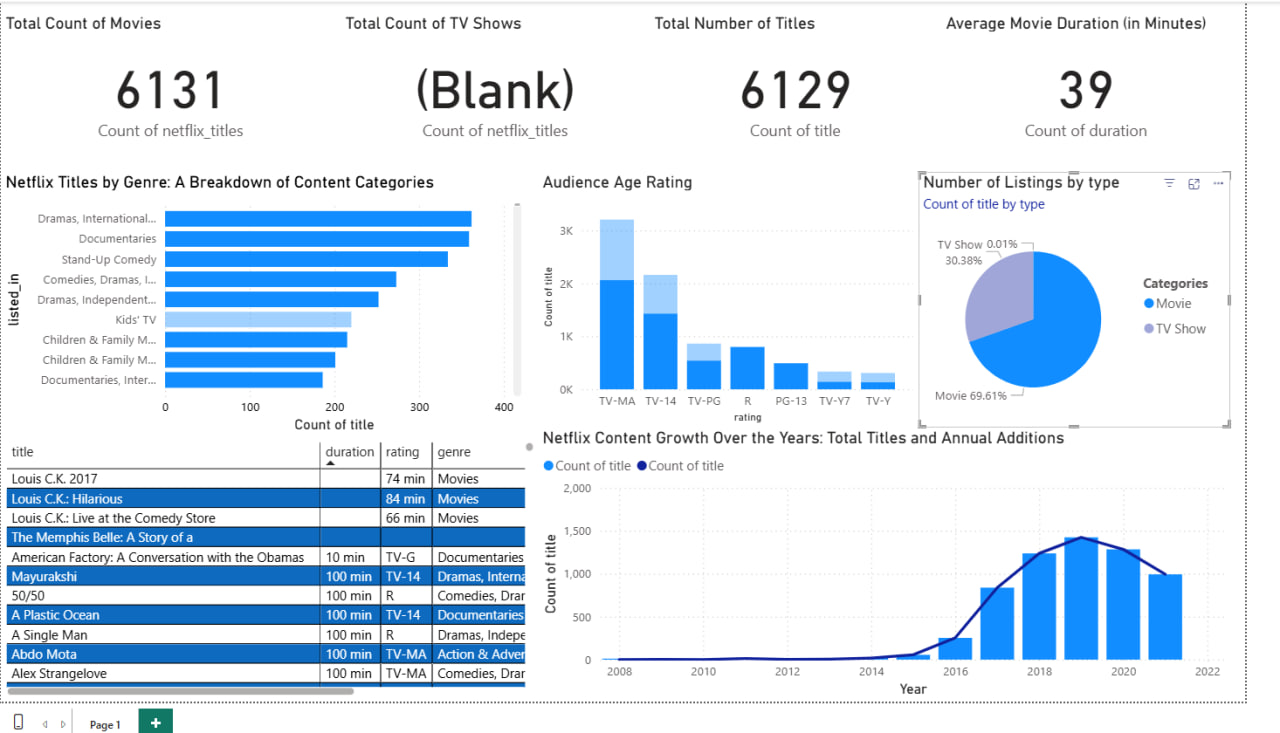

What the dashboard file says about the page in this screenshot:
{"tool":"powerbi","page":{"name":"Page 1","canvas":[1280,720],"ordinal":0},"visuals":[{"type":"lineClusteredColumnComboChart","title":"Netflix Content Growth Over the Years: Total Titles and Annual Additions","fields":{"Category":["netflix_titles.date_added.Variation.Date Hierarchy.Year"],"Y":["netflix_titles.title","select","select1"],"Y2":["netflix_titles.title"]},"box":[552.5,437.7,712,282.1],"z":0},{"type":"pieChart","title":"Number of Listings by type","fields":{"Y":["netflix_titles.title"],"Category":["netflix_titles.type"]},"box":[943.5,175.1,321,262.6],"z":1000},{"type":"tableEx","fields":{"Values":["netflix_titles.title","netflix_titles.duration","netflix_titles.rating","netflix_titles.listed_in"]},"box":[0,448.4,552.8,271.1],"z":2000},{"type":"card","title":"Average Movie Duration (in Minutes)","fields":{"Values":["netflix_titles.duration"]},"box":[966.8,11.7,297.6,145.9],"z":3000},{"type":"clusteredColumnChart","title":"Audience Age Rating","fields":{"Y":["netflix_titles.title"],"Category":["netflix_titles.rating"]},"box":[552.5,175.1,391,262.6],"z":4000},{"type":"clusteredBarChart","title":"Netflix Titles by Genre: A Breakdown of Content Categories","fields":{"Category":["netflix_titles.listed_in"],"Y":["netflix_titles.title"]},"box":[0,175.3,540.4,273.1],"z":5000},{"type":"card","title":"Total Number of Titles","fields":{"Values":["netflix_titles.title"]},"box":[667.2,11.7,299.6,145.9],"z":6000},{"type":"card","title":"Total Count of Movies ","fields":{"Values":["netflix_titles"]},"box":[0,11.7,349.2,145.9],"z":7000},{"type":"card","title":"Total Count of TV Shows","fields":{"Values":["netflix_titles"]},"box":[349.2,11.7,318.1,145.9],"z":8000}]}

Visuals, with their boxes on the page's 1280x720 design canvas (x1, y1, x2, y2). These are canvas units, not pixel positions in the 1280x733 screenshot, which may show the page scaled, cropped or inside an application window:
"Netflix Content Growth Over the Years: Total Titles and Annual Additions" lineClusteredColumnComboChart: 552/438/1264/720
"Number of Listings by type" pieChart: 944/175/1264/438
tableEx - netflix_titles.title x netflix_titles.duration: 0/448/553/720
"Average Movie Duration (in Minutes)" card: 967/12/1264/158
"Audience Age Rating" clusteredColumnChart: 552/175/944/438
"Netflix Titles by Genre: A Breakdown of Content Categories" clusteredBarChart: 0/175/540/448
"Total Number of Titles" card: 667/12/967/158
"Total Count of Movies " card: 0/12/349/158
"Total Count of TV Shows" card: 349/12/667/158
